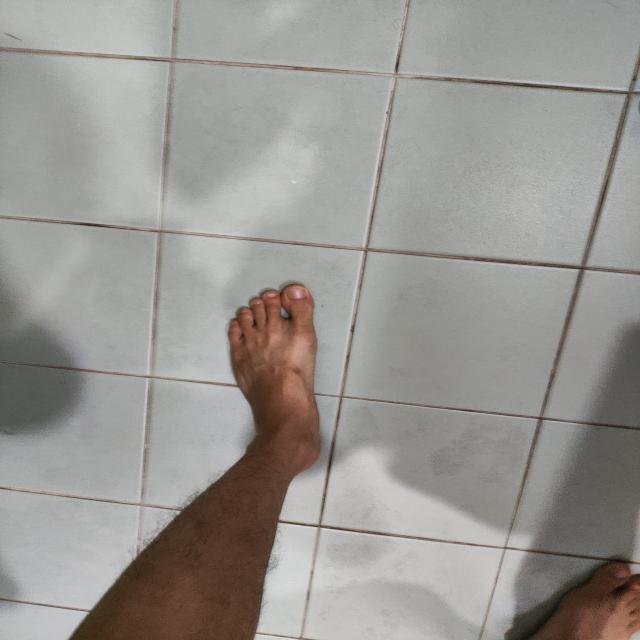No_Shoes: (186, 274, 378, 480)
